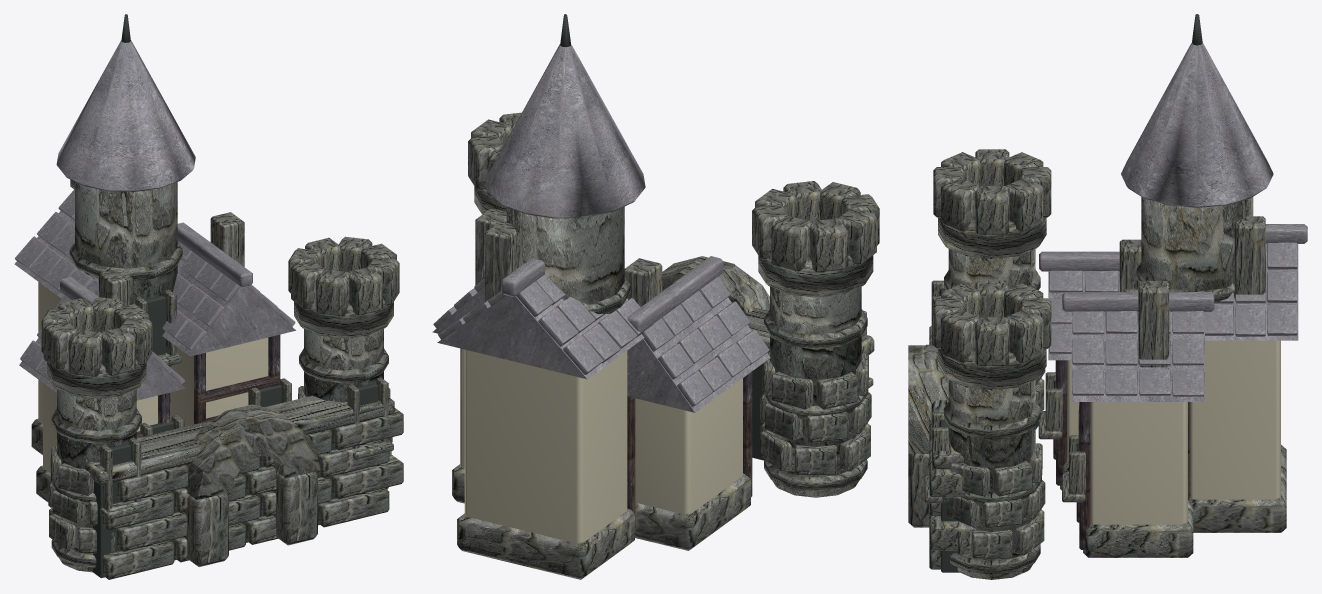
Rendered from env-site-city1-mobile.glb.
3 renders of one model, left to right at view 1: azimuth 30°, elevation 25°; view 2: azimuth 150°, elevation 25°; view 3: azimuth 270°, elevation 25°, orthographic. The views are drawn at different scales.
Visible parts, largest first — view 1: site city1 · authored textured miniature; view 2: site city1 · authored textured miniature; view 3: site city1 · authored textured miniature.
Part boxes in pixels (bbox=[...]): site city1 · authored textured miniature: bbox=[14, 14, 403, 579]; site city1 · authored textured miniature: bbox=[432, 14, 879, 579]; site city1 · authored textured miniature: bbox=[908, 14, 1307, 579].
Bounding box in the file's own units: 1.38 × 1.75 × 1.28.
Materials: 5 (3 with a texture image).
